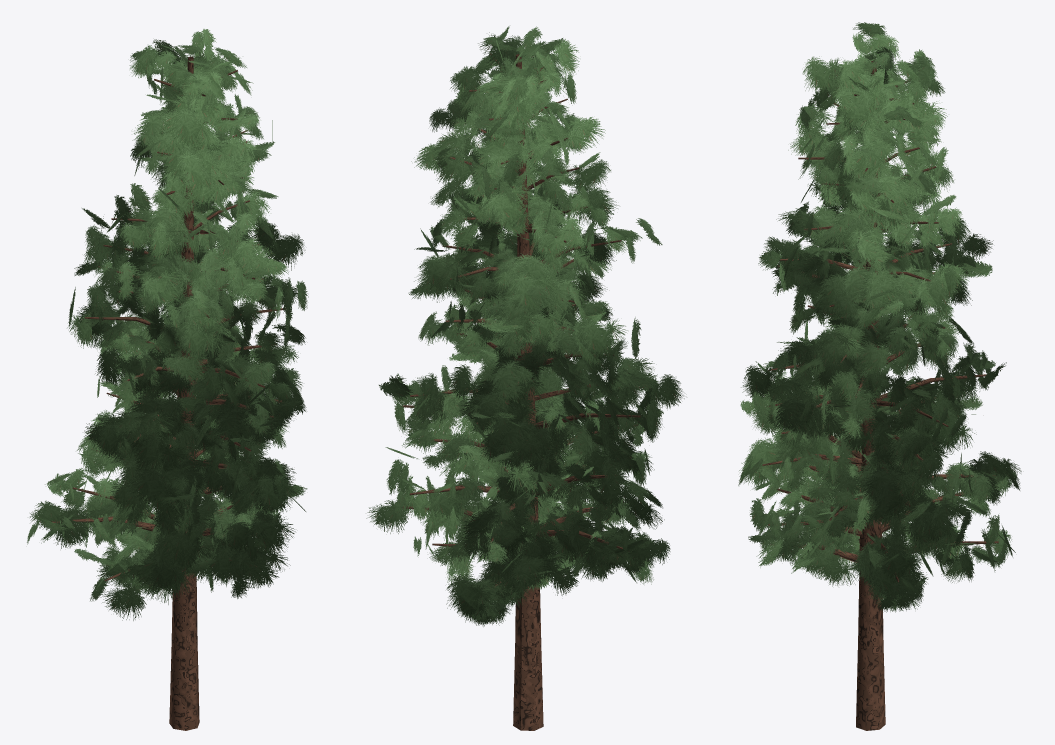
File: tree_pine_canary.glb
The picture shows the model from 3 angles, left to right: view 1: azimuth 30°, elevation 25°; view 2: azimuth 150°, elevation 25°; view 3: azimuth 270°, elevation 25°; orthographic projection.
Parts seen in each view (by area): view 1: tree_pine_canary; view 2: tree_pine_canary; view 3: tree_pine_canary.
Part boxes in pixels (x1,y1,x2,y2): tree_pine_canary: [27, 29, 308, 730]; tree_pine_canary: [366, 26, 684, 730]; tree_pine_canary: [738, 22, 1021, 730].
Size of the model in its own units: 9.53 by 20.81 by 8.59.
Materials: 1 (1 with a texture image).
